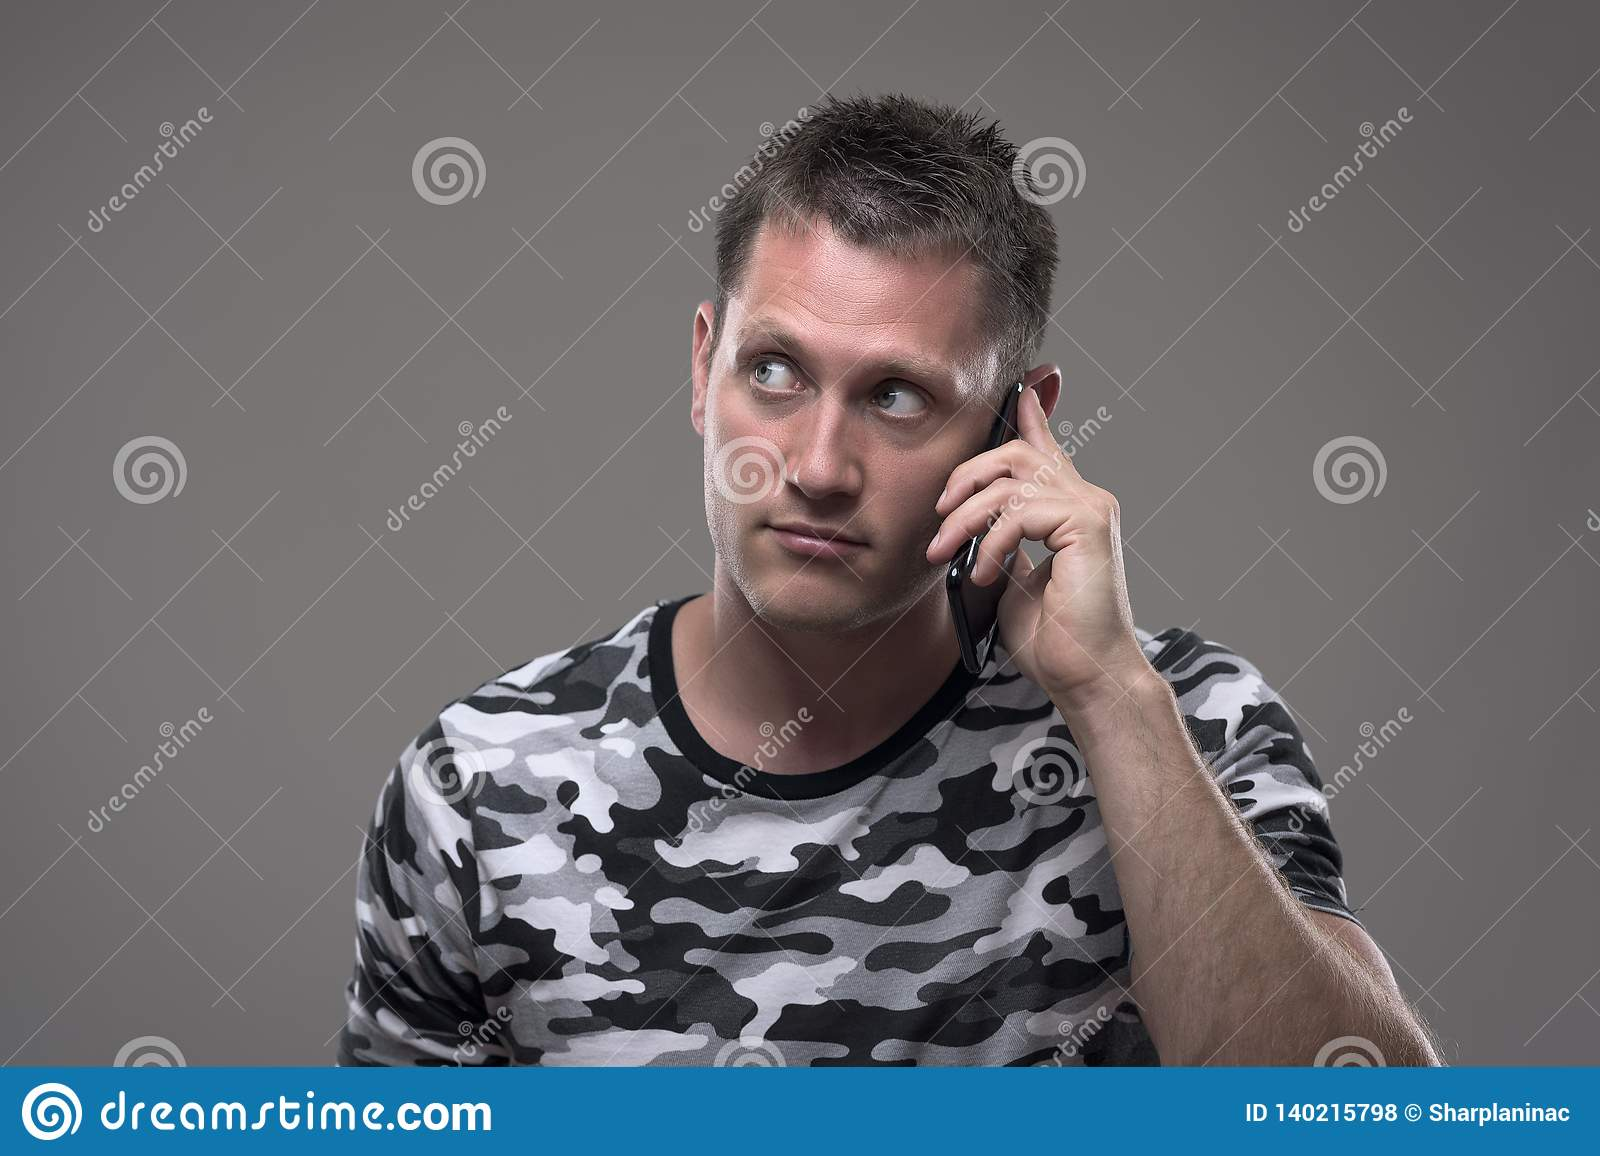phone: (948, 382, 1043, 680)
talk: (708, 305, 1152, 711)
